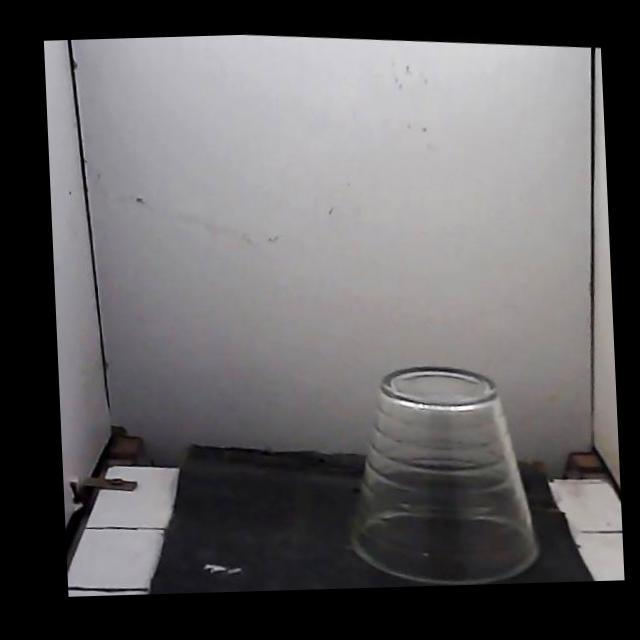vidro: (352, 367, 538, 583)
